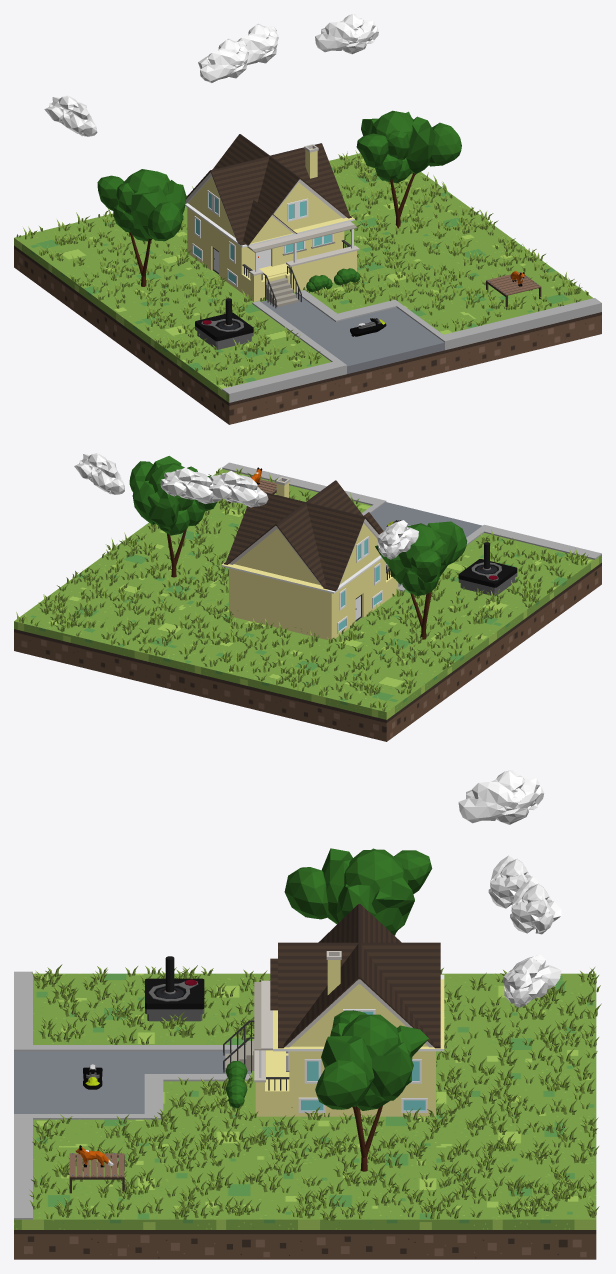
The picture shows the model from 3 angles, top to bottom: view 1: azimuth 30°, elevation 25°; view 2: azimuth 150°, elevation 25°; view 3: azimuth 270°, elevation 25°; orthographic projection. The views are drawn at different scales.
Parts seen in each view (by area): view 1: Cube.006, Cube.1555, Circle.012_Grass_0.192, Cube.007, tree, tree.001, OBJRANDOM_JOYSTICK, Cube.009; view 2: Cube.006, Cube.1555, Circle.012_Grass_0.192, Cube.007, tree.001, tree, OBJRANDOM_JOYSTICK; view 3: Cube.006, Circle.012_Grass_0.192, Cube.1555, tree, Cube.007, tree.001, OBJRANDOM_JOYSTICK, Cube.009.
Boxes of the visible parts, box(x1,y1,x2,y2) form: Cube.006: box(14, 153, 601, 424); Cube.1555: box(185, 134, 359, 308); Circle.012_Grass_0.192: box(16, 150, 588, 386); Cube.007: box(44, 14, 378, 136); tree: box(356, 110, 461, 228); tree.001: box(97, 169, 186, 286); OBJRANDOM_JOYSTICK: box(195, 298, 253, 349); Cube.009: box(486, 272, 541, 306); Cube.006: box(14, 462, 601, 741); Cube.1555: box(221, 477, 398, 640); Circle.012_Grass_0.192: box(16, 468, 588, 711); Cube.007: box(74, 453, 418, 559); tree.001: box(375, 521, 467, 639); tree: box(129, 456, 216, 577); OBJRANDOM_JOYSTICK: box(458, 542, 517, 596); Cube.006: box(14, 971, 596, 1259); Circle.012_Grass_0.192: box(29, 964, 601, 1220); Cube.1555: box(223, 904, 444, 1116); tree: box(315, 1010, 428, 1171); Cube.007: box(458, 770, 561, 1007); tree.001: box(284, 848, 432, 935); OBJRANDOM_JOYSTICK: box(145, 956, 204, 1021); Cube.009: box(69, 1153, 124, 1193).
Size of the model in its own units: 4071 by 2153 by 4040.
38 materials, 3 textured.
